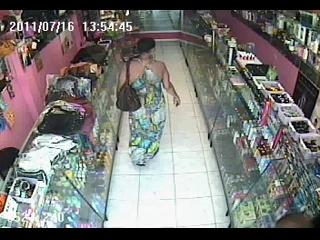Normal: (116, 38, 182, 166), (116, 60, 142, 112)
